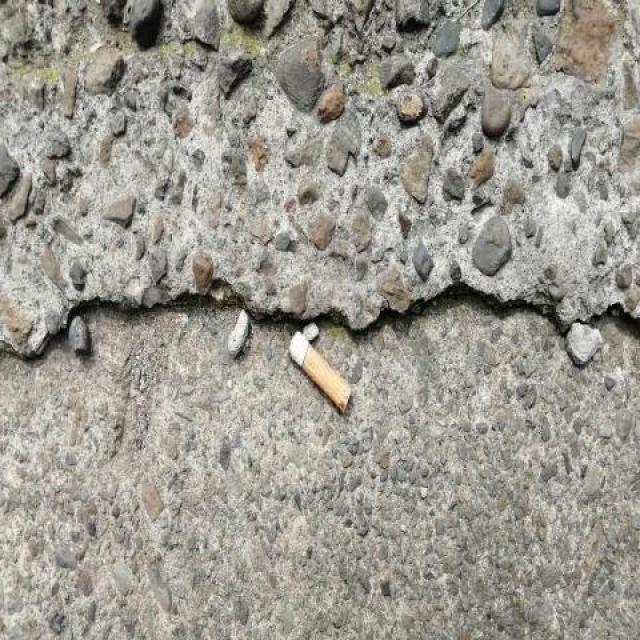non-organic waste: (285, 327, 354, 417)
